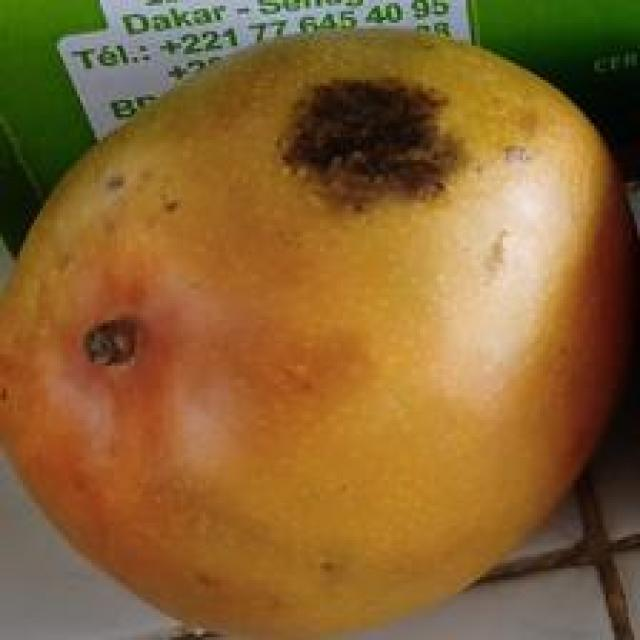Bad_Mango: (0, 34, 631, 639)
